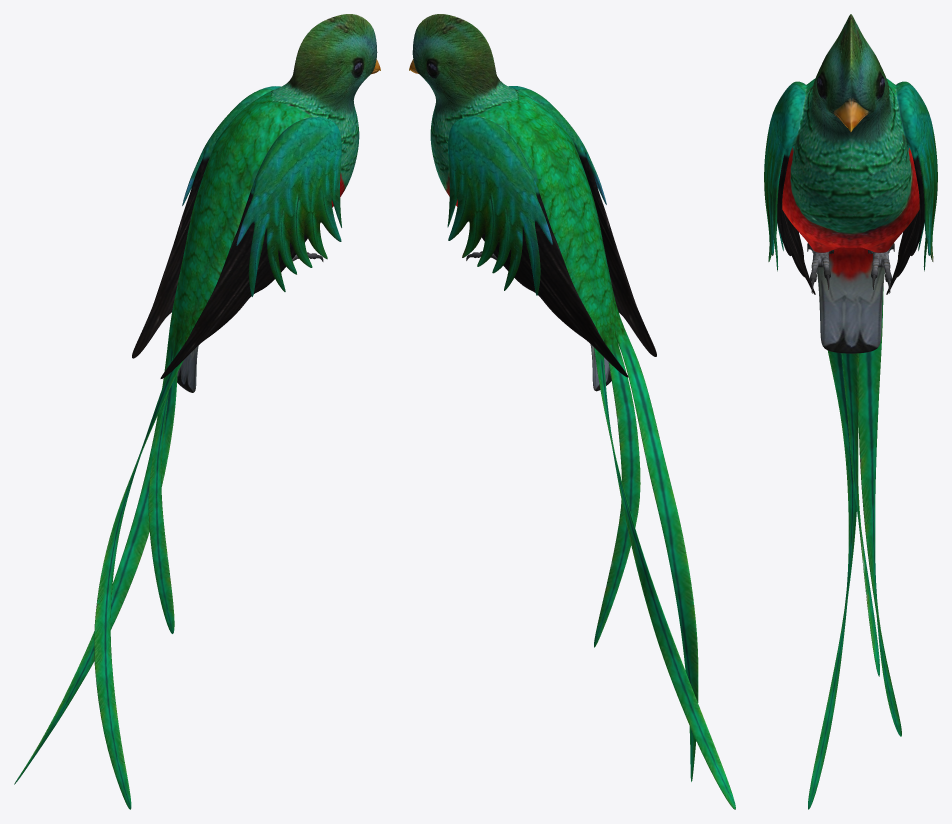
File: quetzal.fbx
3 views of the same model, side by side, from view 1: azimuth 30°, elevation 25°; view 2: azimuth 150°, elevation 25°; view 3: azimuth 270°, elevation 25° (orthographic). The views are drawn at different scales.
Visible parts, largest first — view 1: 12245_Bird_v1_l2; view 2: 12245_Bird_v1_l2; view 3: 12245_Bird_v1_l2.
Part boxes in pixels (x1,y1,x2,y2): 12245_Bird_v1_l2: [14, 14, 380, 809]; 12245_Bird_v1_l2: [409, 14, 735, 809]; 12245_Bird_v1_l2: [764, 14, 937, 809].
Size of the model in its own units: 118 by 236 by 40.09.
Materials: 1 (1 with a texture image).
